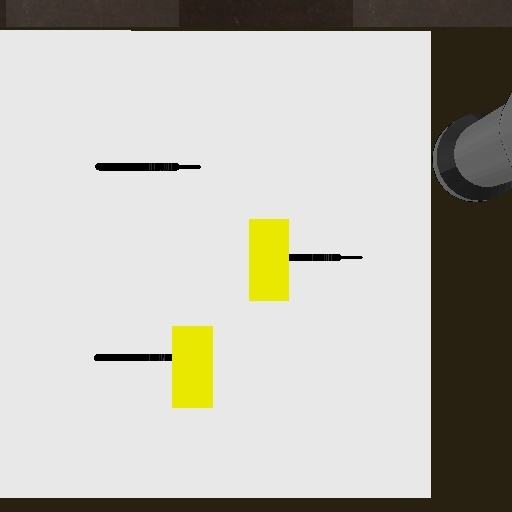bisturi: (91, 156, 205, 177), (289, 249, 365, 267), (87, 350, 172, 365)
